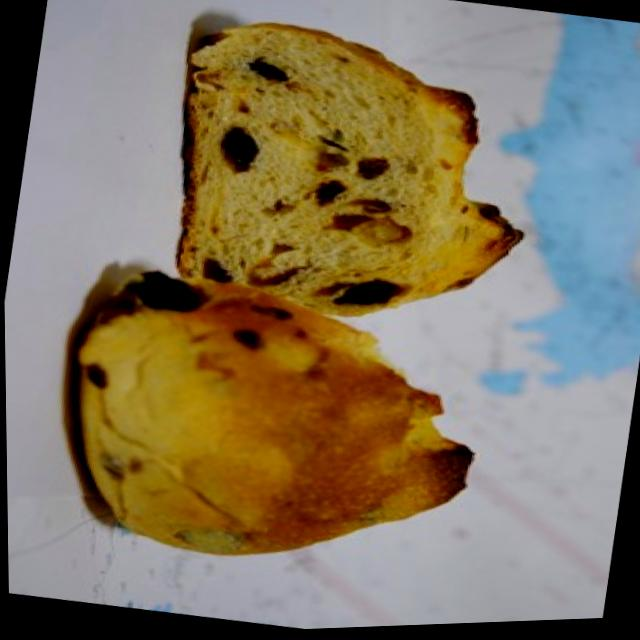面包点心: (53, 0, 579, 607)
